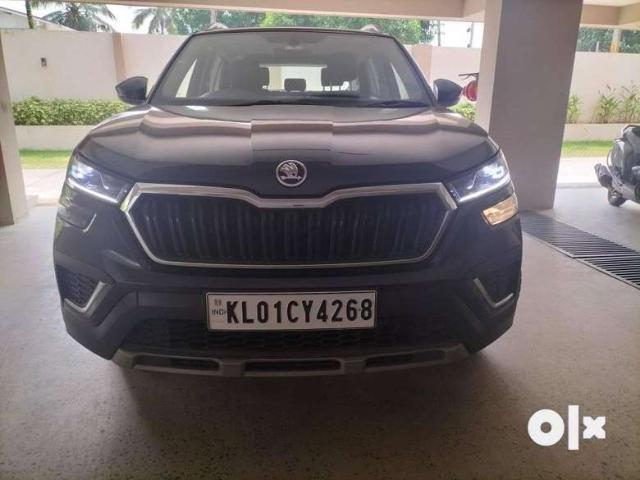Indian_Number_Plate: (208, 291, 378, 329)
